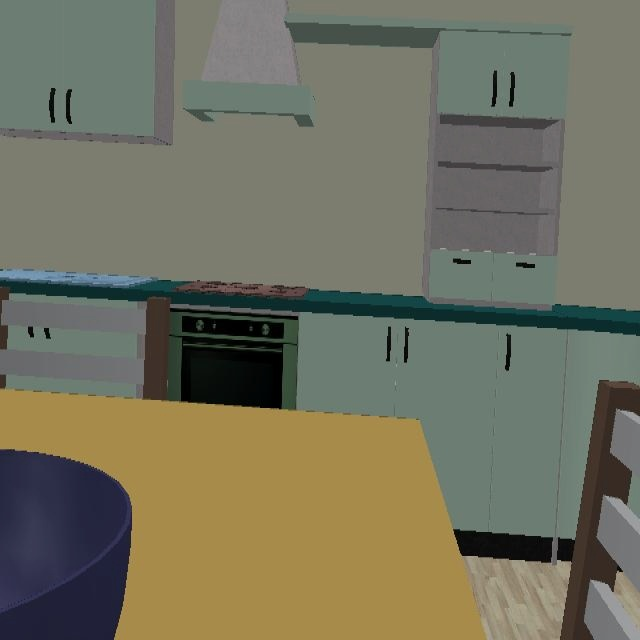cabinet: (295, 313, 640, 563), (284, 13, 571, 311), (8, 325, 137, 359), (7, 375, 143, 399), (8, 293, 138, 309)
chair: (560, 380, 640, 640), (0, 287, 170, 400)
countertop: (0, 271, 640, 336)
oven: (168, 312, 298, 409)
stove: (176, 280, 309, 299)
table: (0, 389, 488, 640)
